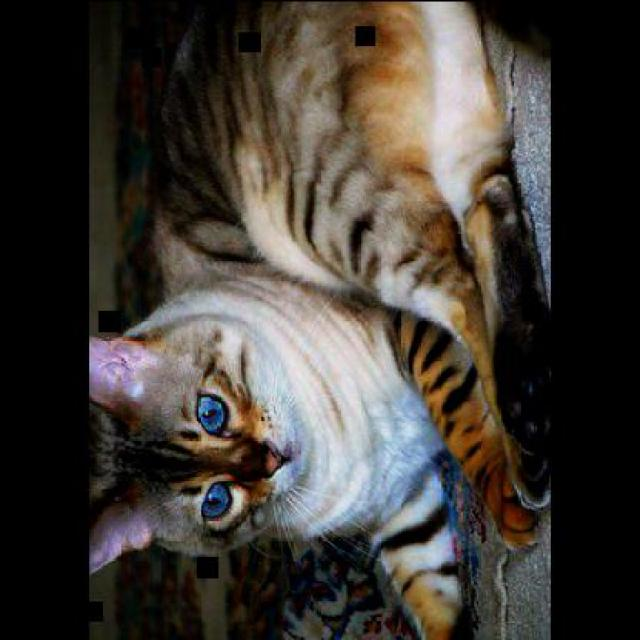unauthorized: (86, 0, 550, 638)
